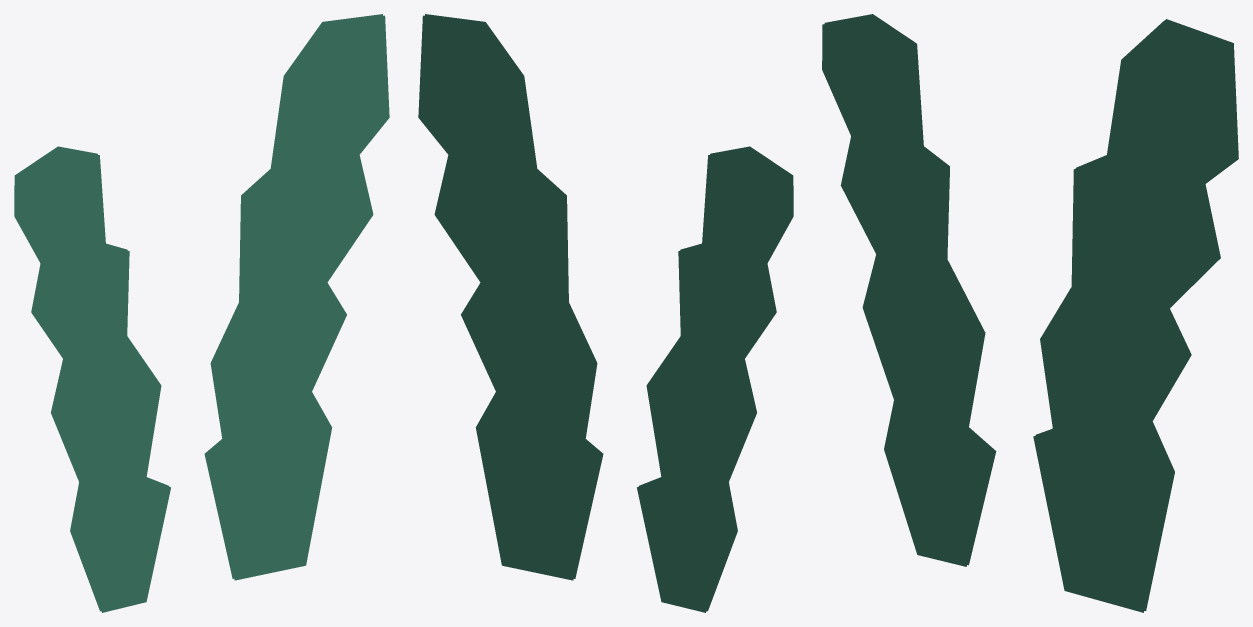
Rendered from Algae3_tex.fbx.
3 renders of one model, left to right at view 1: azimuth 30°, elevation 25°; view 2: azimuth 150°, elevation 25°; view 3: azimuth 330°, elevation 25°, orthographic. The views are drawn at different scales.
Parts seen in each view (by area): view 1: Algae3_tex; view 2: Algae3_tex; view 3: Algae3_tex.
Part boxes in pixels (<box>): Algae3_tex: <box>14,14,389,612</box>; Algae3_tex: <box>418,14,793,612</box>; Algae3_tex: <box>822,14,1238,612</box>.
Bounding box in the file's own units: 0.3849 × 0.5301 × 0.00371.
